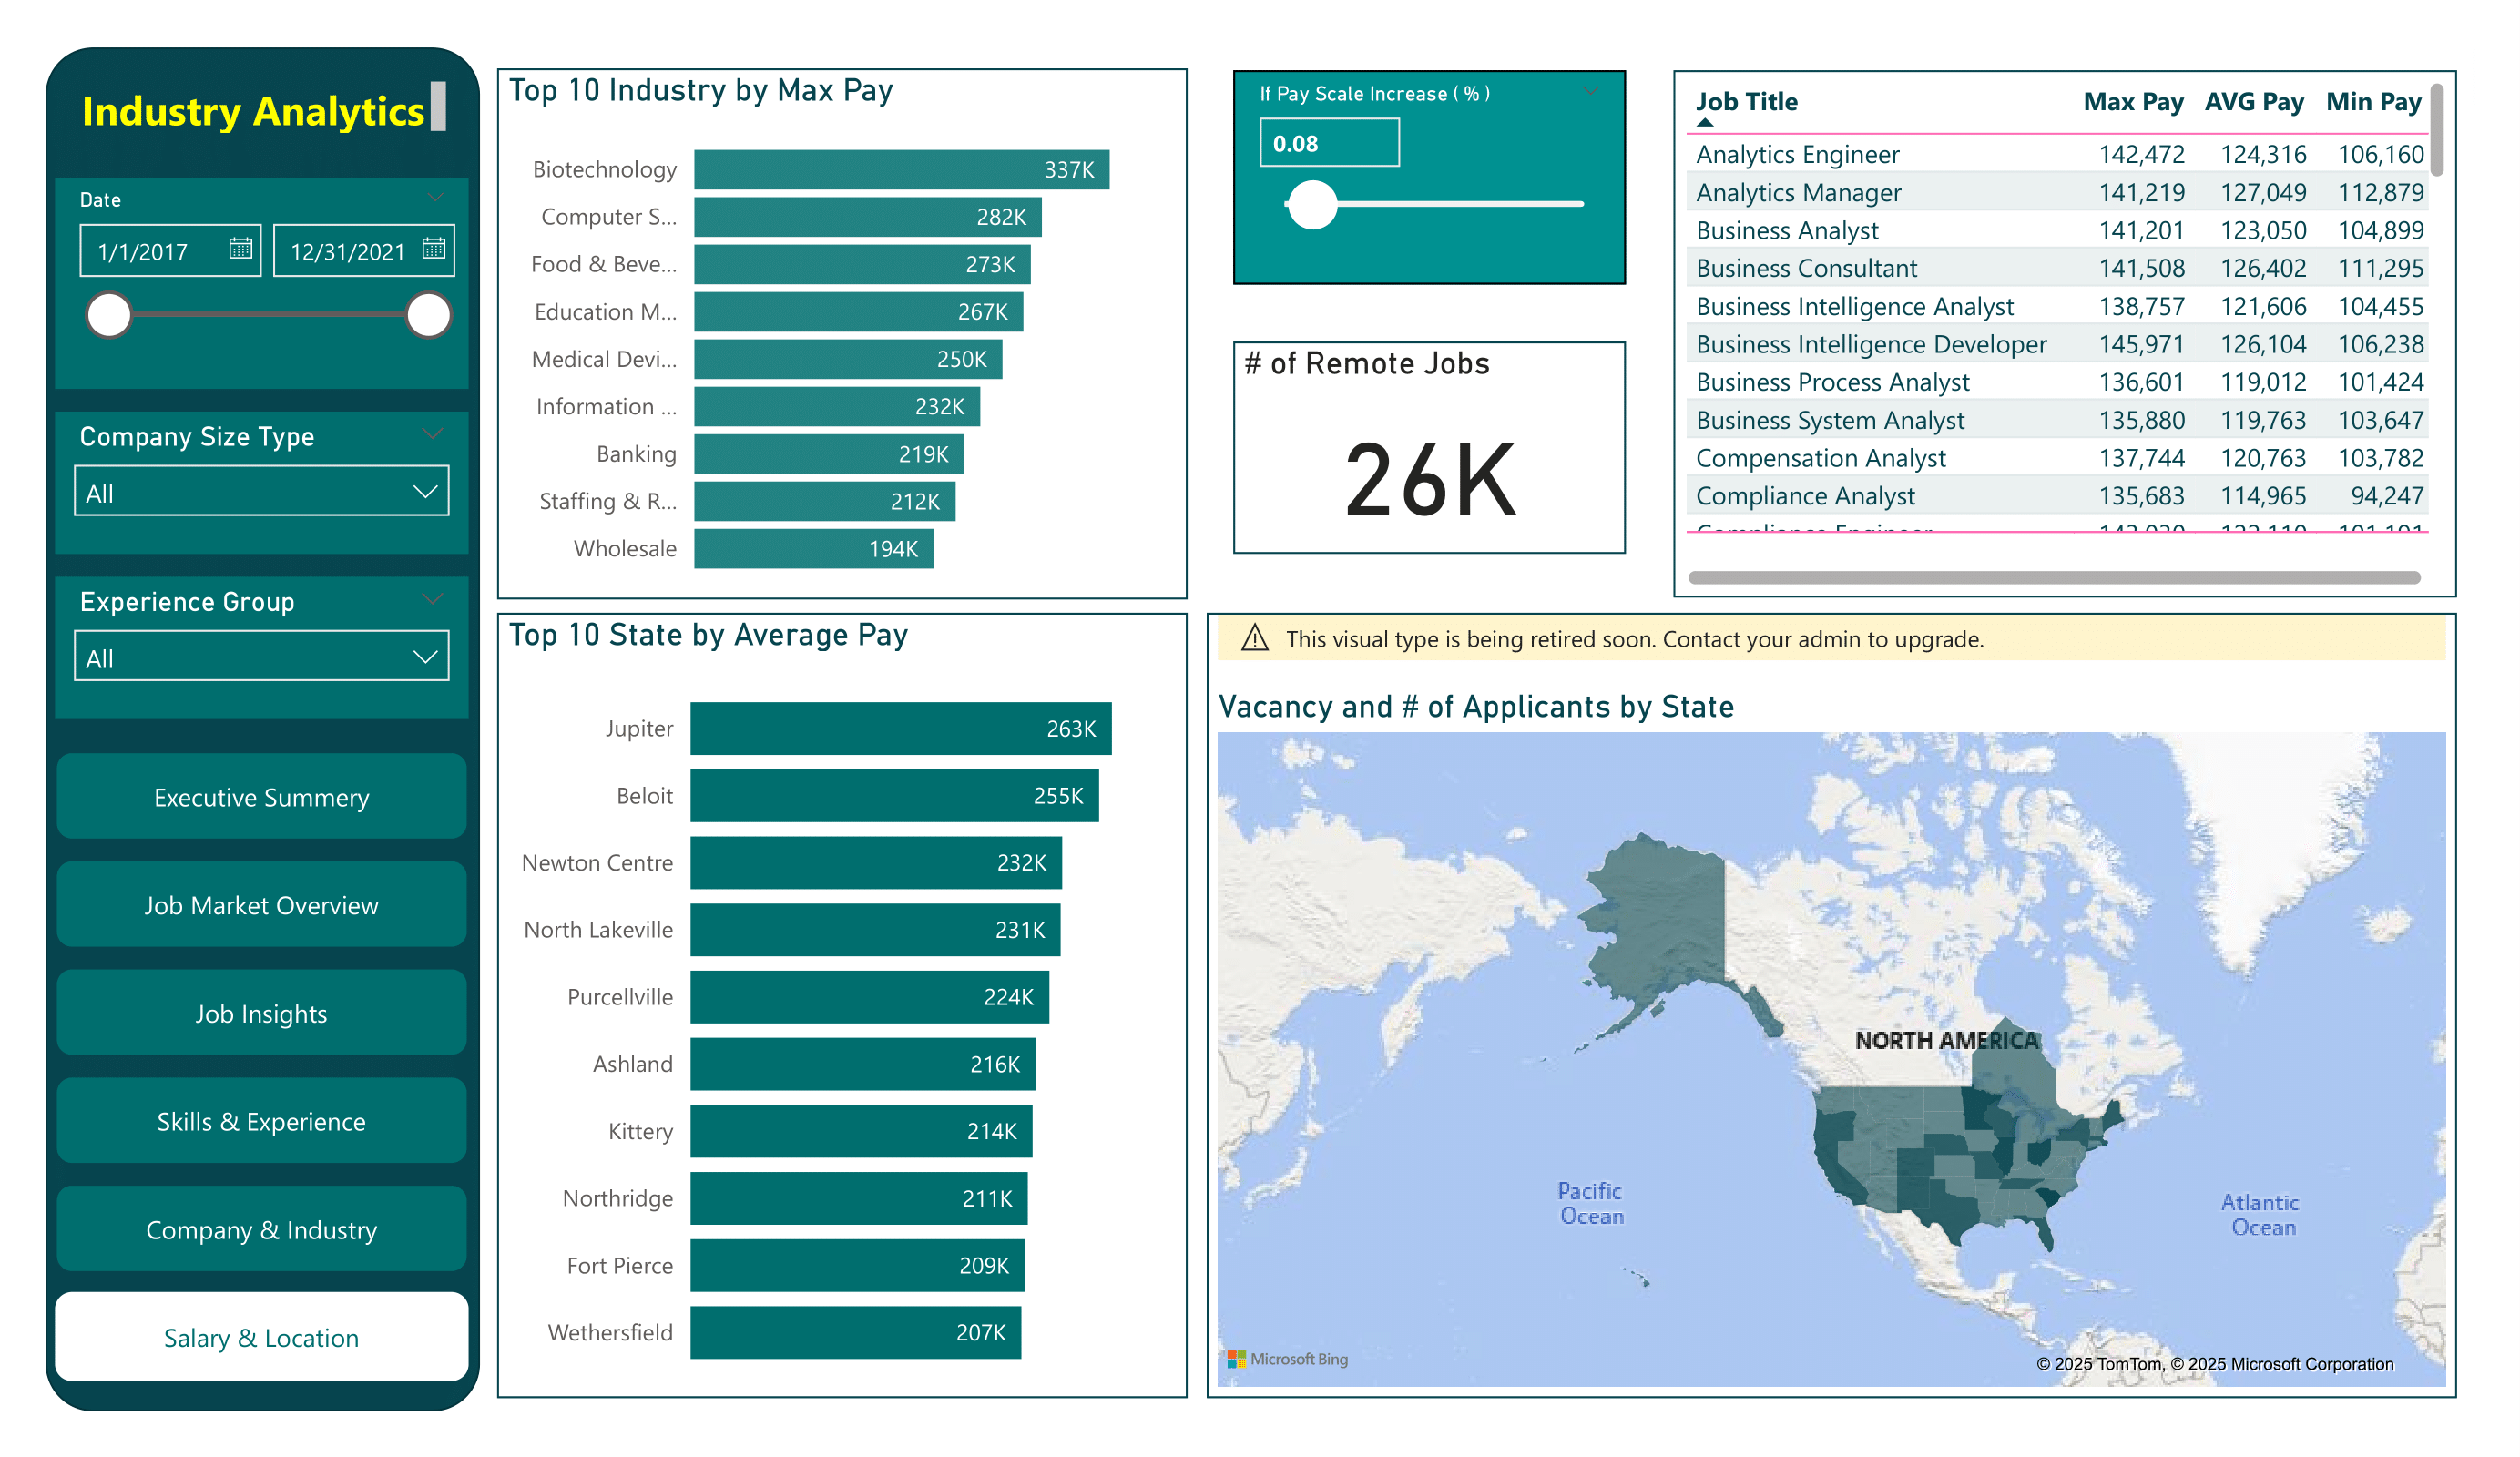

Layout of this report page (visuals, bound fields, positions):
{"tool":"powerbi","page":{"name":"Salary & Location","canvas":[1280,720],"ordinal":5},"visuals":[{"type":"tableEx","fields":{"Values":["job_postings.Job Title","_Measure.AVG Max Pay %","_Measure.AVG Pay %","_Measure.AVG Min Pay %"]},"box":[857.8,13.3,413.3,277.8],"z":0},{"type":"filledMap","fields":{"Category":["job_postings.Job Location.2"]},"box":[612.2,298.9,658.9,414.4],"z":1000},{"type":"slicer","fields":{"Values":["Increment %.Increment %"]},"box":[625.6,13.3,207.8,112.2],"z":2000},{"type":"group","id":"g1","title":"Group 1","box":[0,0.8,229.1,719.1],"z":3000},{"type":"clusteredBarChart","title":"Top 10 State by Average Pay","fields":{"Category":["job_postings.Job Location.1"],"Y":["_Measure.AVG Pay"]},"box":[237.8,298.8,363.9,414.6],"z":4000},{"type":"card","title":"# of Remote Jobs","fields":{"Values":["_Measure.Remote Jobs"]},"box":[625.6,155.6,207.8,112.2],"z":5000},{"type":"clusteredBarChart","title":"Top 10 Industry by Max Pay","fields":{"Category":["job_postings.Company Industry"],"Y":["_Measure.Max Pay"]},"box":[237.8,12.2,364.4,280],"z":6000},{"type":"shape","box":[0,0.8,229.1,719.1],"z":8000,"group":"g1"},{"type":"textbox","box":[10.9,13.5,205.5,37.3],"z":9000,"group":"g1"},{"type":"slicer","fields":{"Values":["DimDate.Date"]},"box":[5,69.6,217.7,110.9],"z":10000,"group":"g1"},{"type":"pageNavigator","box":[5,371.9,217.7,332.6],"z":11000,"group":"g1"},{"type":"slicer","fields":{"Values":["job_postings.Company Size Type"]},"box":[5.3,192.8,217.7,74.7],"z":12000,"group":"g1"},{"type":"slicer","fields":{"Values":["job_postings.Experience Group"]},"box":[5.3,279.8,217.7,74.7],"z":13000,"group":"g1"}]}

Visuals, with their boxes on the page's 1280x720 design canvas (x1, y1, x2, y2). These are canvas units, not pixel positions in the 2520x1457 screenshot, which may show the page scaled, cropped or inside an application window:
tableEx - job_postings.Job Title x _Measure.AVG Max Pay %: Rect(858, 13, 1271, 291)
filledMap - job_postings.Job Location.2: Rect(612, 299, 1271, 713)
slicer - Increment %.Increment %: Rect(626, 13, 833, 126)
"Group 1" group: Rect(0, 1, 229, 720)
"Top 10 State by Average Pay" clusteredBarChart: Rect(238, 299, 602, 713)
"# of Remote Jobs" card: Rect(626, 156, 833, 268)
"Top 10 Industry by Max Pay" clusteredBarChart: Rect(238, 12, 602, 292)
shape: Rect(0, 1, 229, 720)
textbox: Rect(11, 14, 216, 51)
slicer - DimDate.Date: Rect(5, 70, 223, 180)
pageNavigator: Rect(5, 372, 223, 704)
slicer - job_postings.Company Size Type: Rect(5, 193, 223, 268)
slicer - job_postings.Experience Group: Rect(5, 280, 223, 354)
